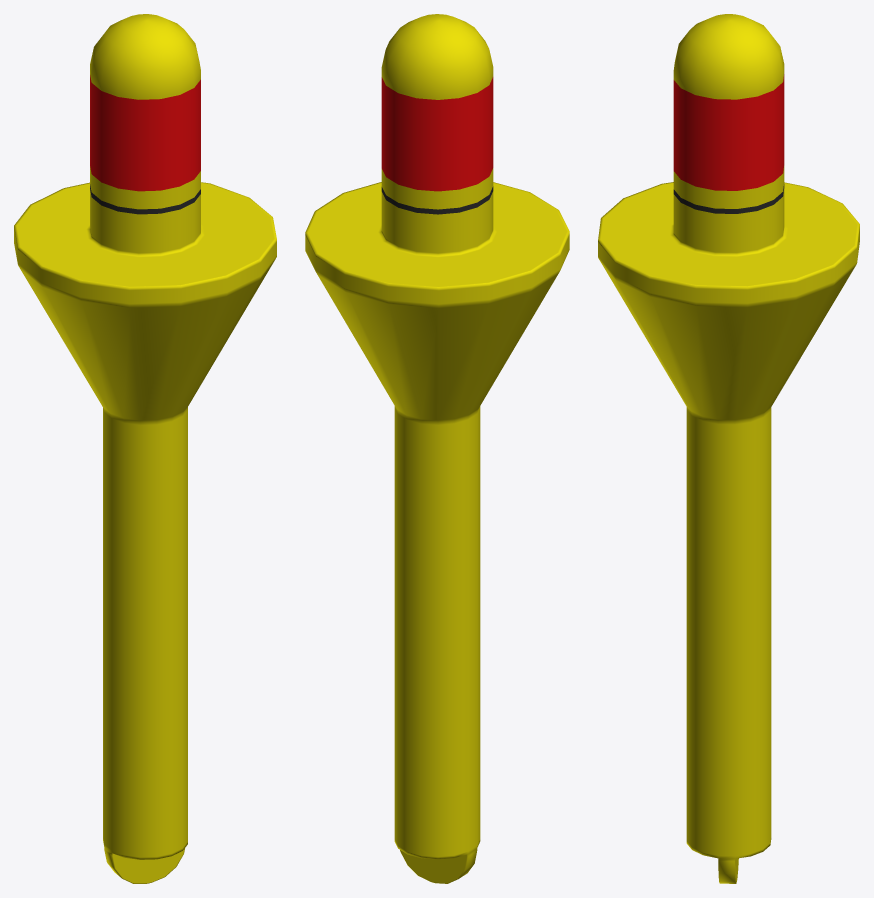
File: nomad_drifter.glb
3 views of the same model, side by side, from view 1: azimuth 30°, elevation 25°; view 2: azimuth 150°, elevation 25°; view 3: azimuth 270°, elevation 25° (orthographic).
Visible parts, largest first — view 1: Nomad_driter; view 2: Nomad_driter; view 3: Nomad_driter.
Boxes of the visible parts, bbox=[...] form: Nomad_driter: bbox=[14, 14, 276, 883]; Nomad_driter: bbox=[305, 14, 569, 883]; Nomad_driter: bbox=[598, 14, 859, 883].
Bounding box in the file's own units: 0.1917 × 0.694 × 0.1917.
